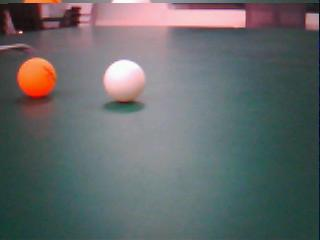oball: (17, 57, 56, 96)
